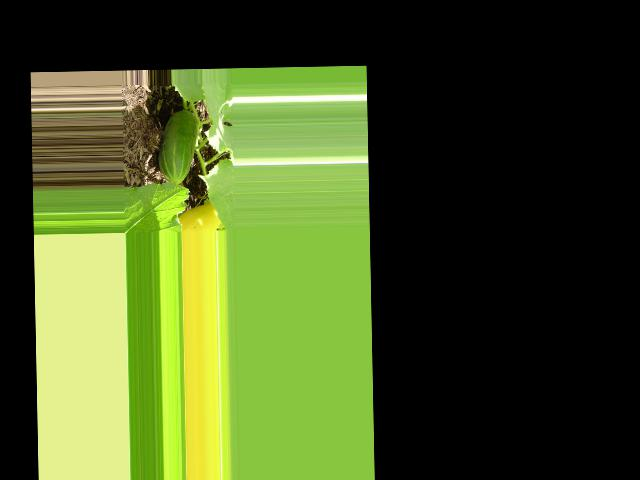cucumber: (156, 109, 198, 184)
